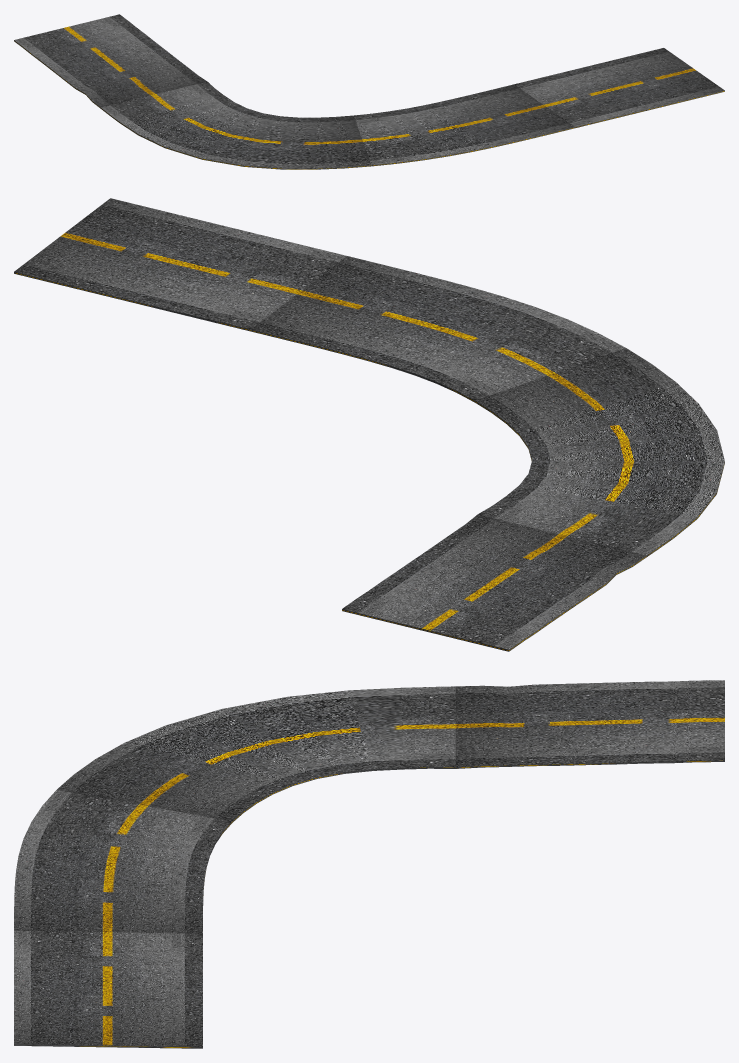
File: curva.fbx
3 views of the same model, one above another, from view 1: azimuth 30°, elevation 25°; view 2: azimuth 150°, elevation 25°; view 3: azimuth 270°, elevation 25° (orthographic). The views are drawn at different scales.
Visible parts, largest first — view 1: Cube.001; view 2: Cube.001; view 3: Cube.001.
Part boxes in pixels (x1,y1,x2,y2): Cube.001: (14, 14, 724, 169); Cube.001: (14, 198, 724, 651); Cube.001: (14, 680, 724, 1048).
Size of the model in its own units: 6916 by 100 by 5711.
1 material, 1 textured.
